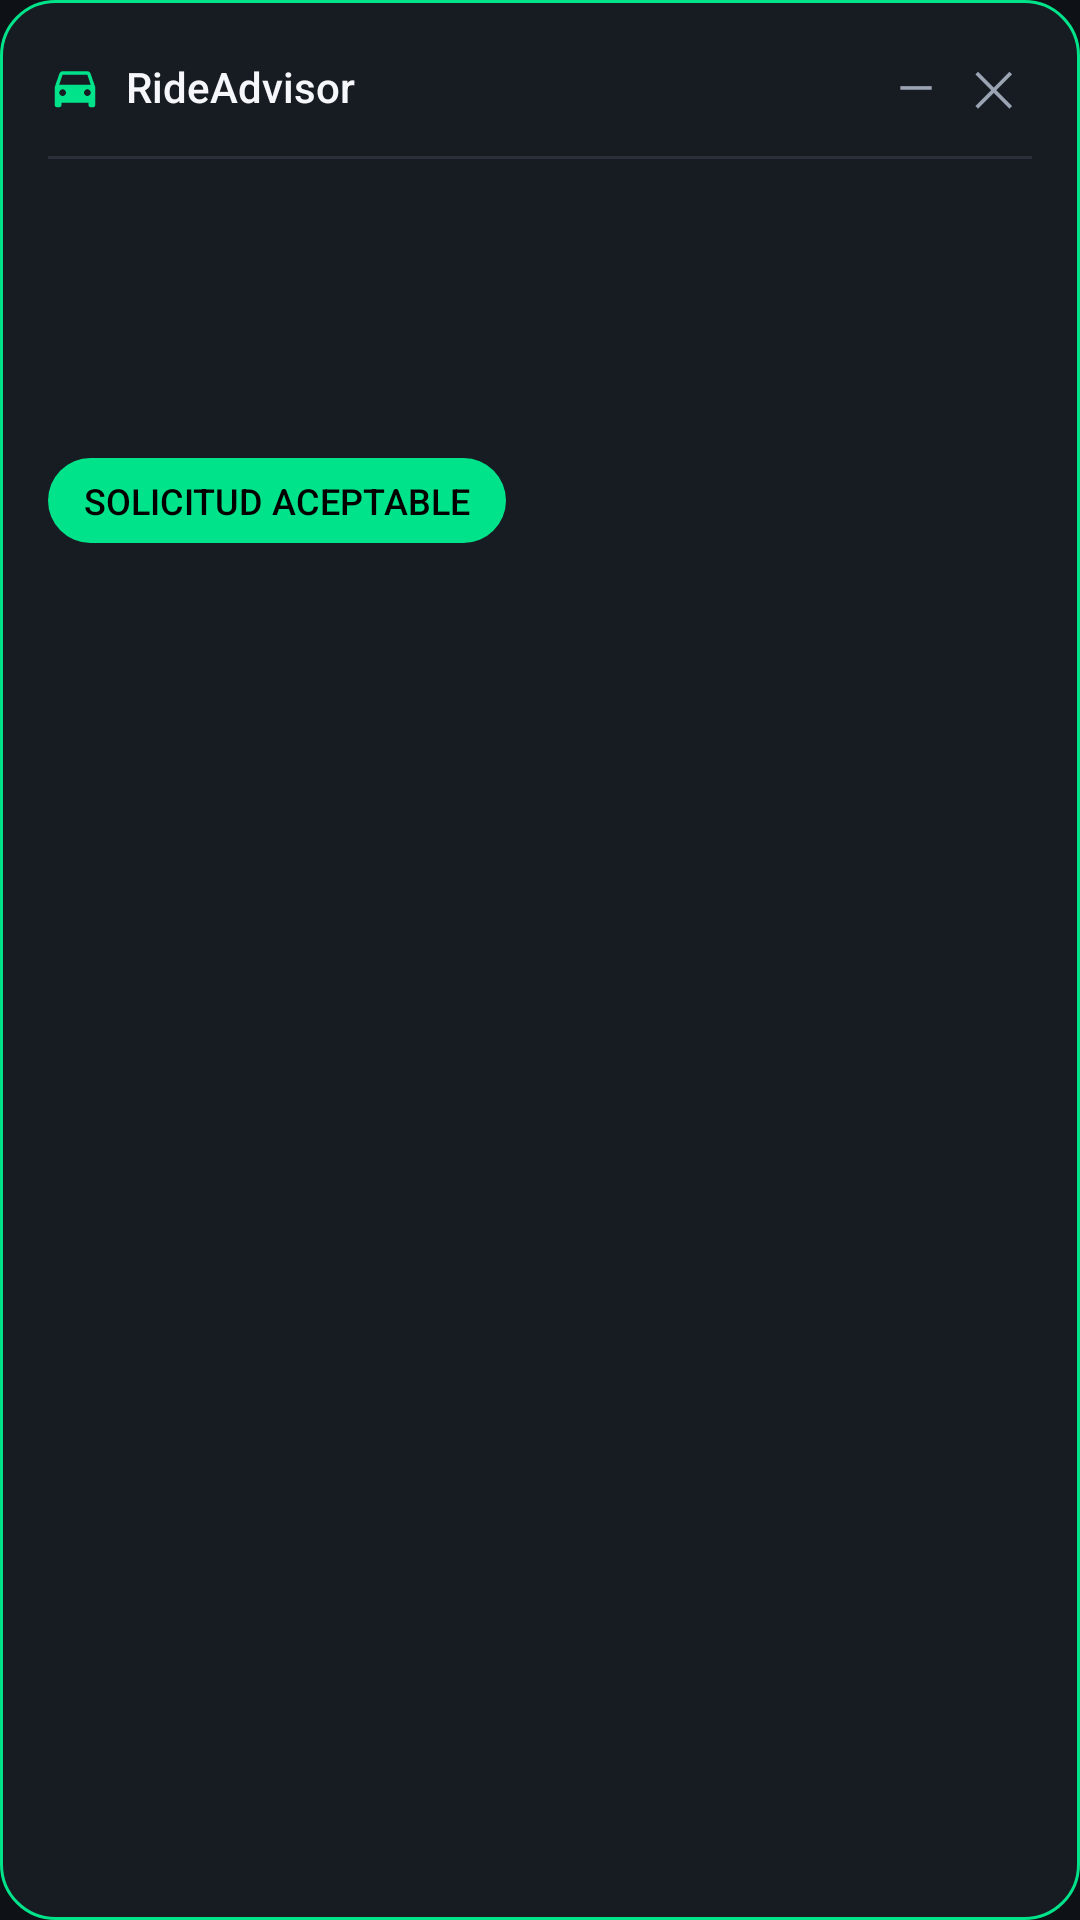

Icon click points for this 1080px×1920px phone screenshot, format (x=x, y=y):
car: (x=75, y=89)
